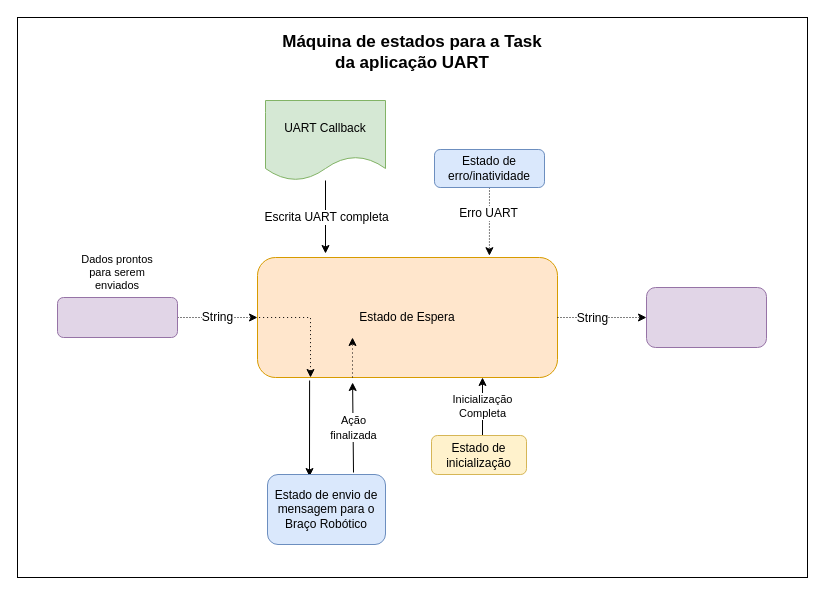
The diagram is 825 pixels wide and 595 high, and some of its shapes have lost their labels. Here are the shapes that lost their labels. From the top down, the centre of each, then its label:
At (x=117, y=317): "De I2C App Task".
At (x=706, y=317): "Interface de controle do Braço Robótico".
